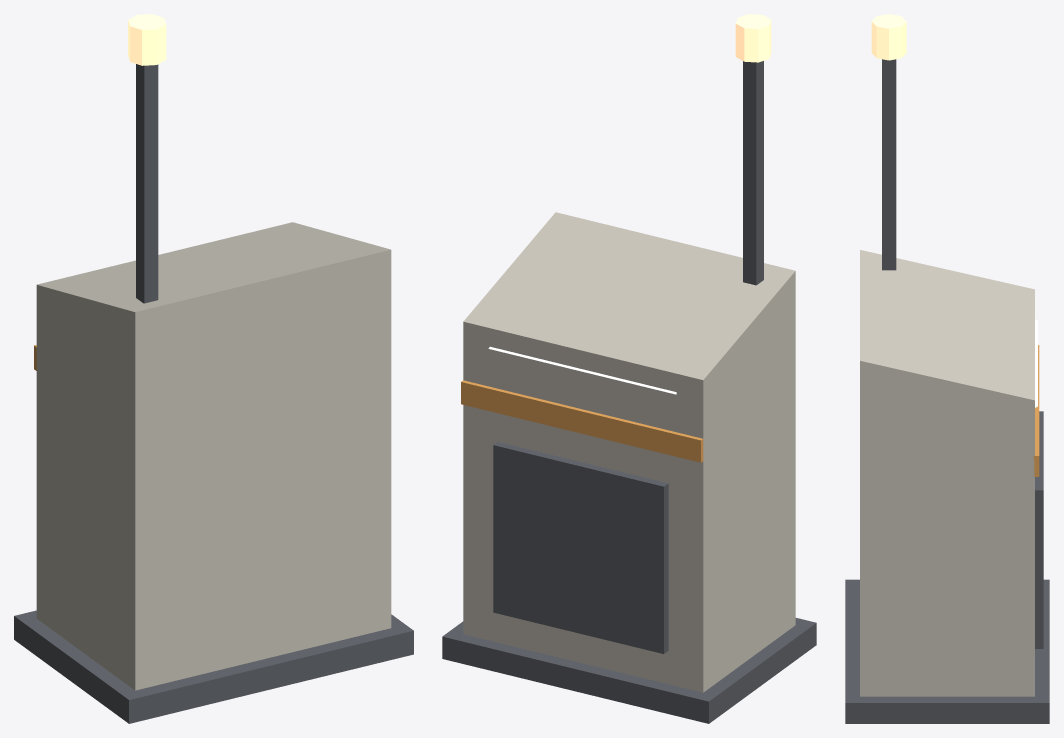
The model's file is RecordConsole.fbx.
3 renders of one model, left to right at view 1: azimuth 30°, elevation 25°; view 2: azimuth 150°, elevation 25°; view 3: azimuth 270°, elevation 25°, orthographic. The views are drawn at different scales.
Parts seen in each view (by area): view 1: RecordConsole; view 2: RecordConsole; view 3: RecordConsole.
Boxes of the visible parts, left/top/right/bottom form: RecordConsole: left=14, top=14, right=413, bottom=723; RecordConsole: left=442, top=14, right=816, bottom=723; RecordConsole: left=845, top=14, right=1049, bottom=723.
Bounding box in the file's own units: 1 × 2.26 × 0.7.
